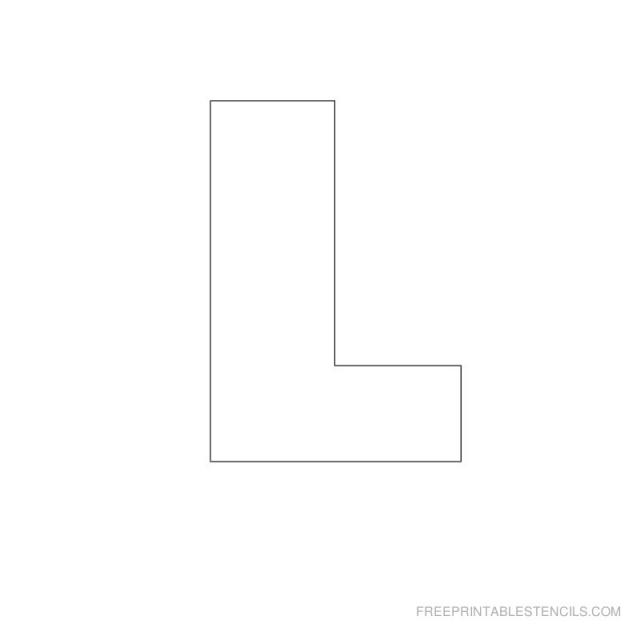L: (144, 54, 492, 502)
